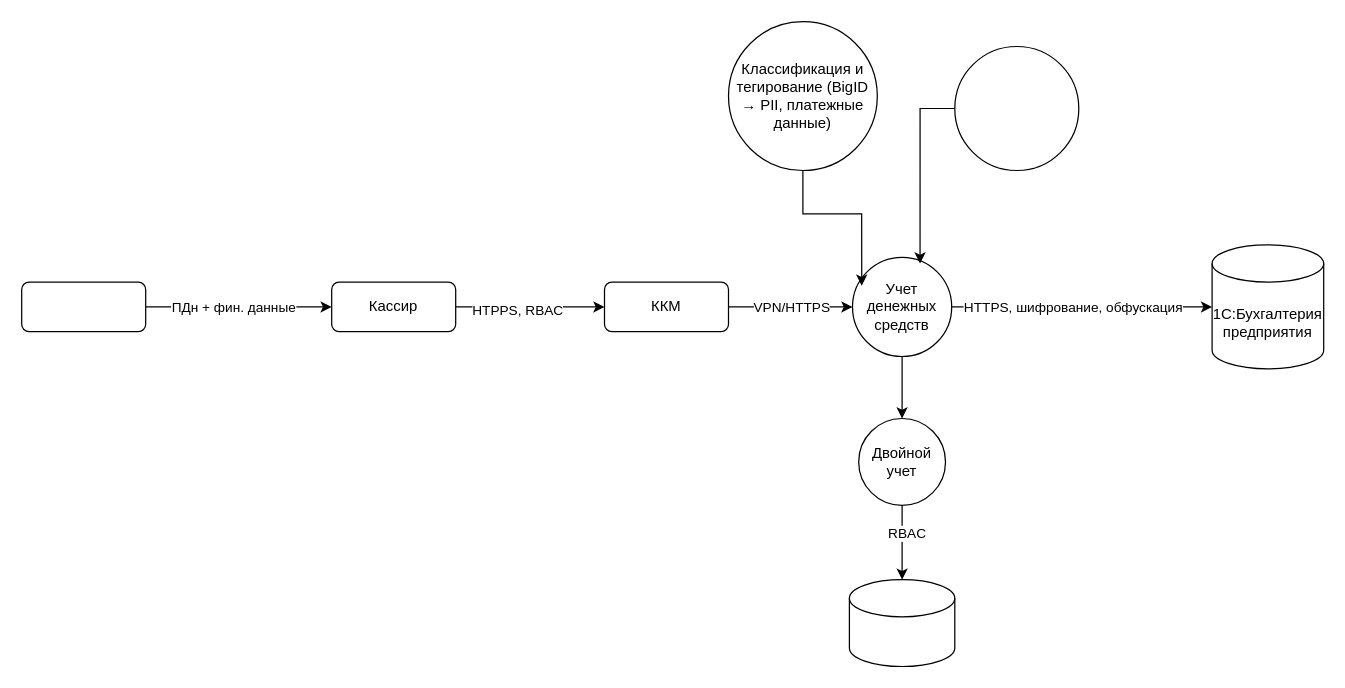
Some shapes in this 1345 by 688 pixel diagram are drawn without their labels. The centre of each missing label's shape, as x and y in pixels:
Excel: the point at 901,622
Аудит действий (ELK, журналы 1C): the point at 1016,107
Пациент: the point at 83,306
